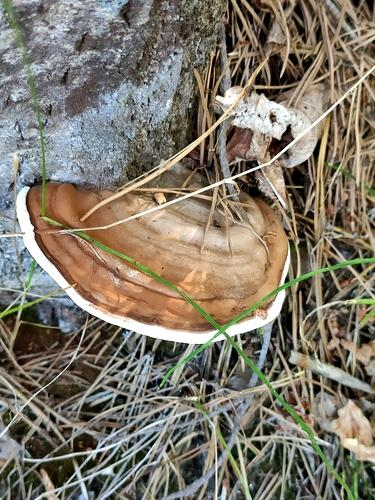Ganoderma - Fruit Body: (17, 179, 293, 343)
